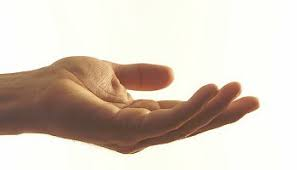palm: (67, 62, 138, 136)
